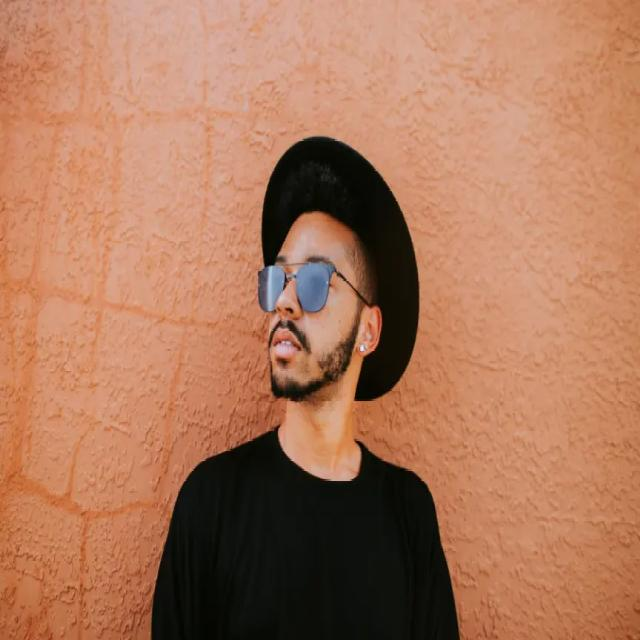hat: (259, 136, 422, 398)
